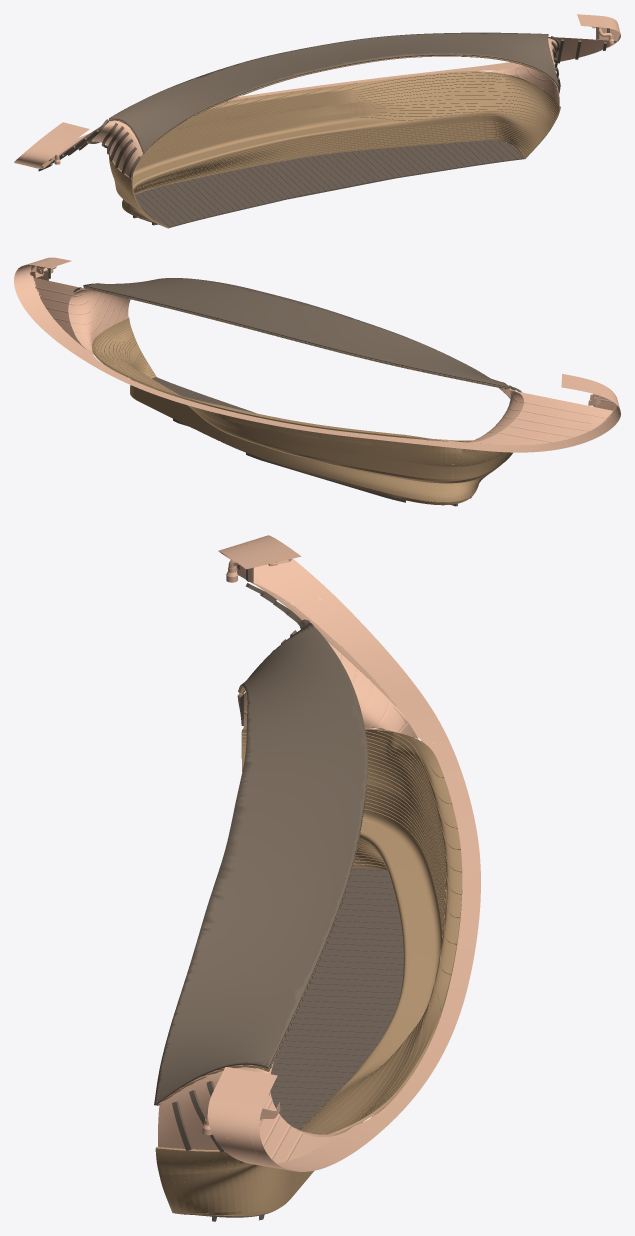
The model's file is balcony_B.glb.
3 renders of one model, top to bottom at view 1: azimuth 30°, elevation 25°; view 2: azimuth 150°, elevation 25°; view 3: azimuth 270°, elevation 25°, orthographic. The views are drawn at different scales.
Visible parts, largest first — view 1: bench_B, soffit_boards, deck, copper_parts, copper_sides, ceiling_shingles; view 2: bench_B, soffit_boards, copper_sides, copper_parts, deck, ceiling_shingles, edge_fittings; view 3: soffit_boards, bench_B, copper_parts, deck, copper_sides.
Boxes of the visible parts, x1=… form: bench_B: x1=108, y1=71, x2=560, y2=228; soffit_boards: x1=38, y1=27, x2=609, y2=178; deck: x1=131, y1=140, x2=523, y2=227; copper_parts: x1=14, y1=14, x2=620, y2=168; copper_sides: x1=37, y1=27, x2=620, y2=178; ceiling_shingles: x1=109, y1=55, x2=557, y2=152; bench_B: x1=92, y1=318, x2=512, y2=504; soffit_boards: x1=48, y1=268, x2=522, y2=443; copper_sides: x1=31, y1=265, x2=617, y2=445; copper_parts: x1=14, y1=257, x2=620, y2=452; deck: x1=150, y1=377, x2=471, y2=506; ceiling_shingles: x1=83, y1=286, x2=509, y2=395; edge_fittings: x1=86, y1=287, x2=505, y2=389; soffit_boards: x1=154, y1=565, x2=385, y2=1163; bench_B: x1=155, y1=728, x2=462, y2=1216; copper_parts: x1=202, y1=535, x2=480, y2=1171; deck: x1=195, y1=867, x2=403, y2=1221; copper_sides: x1=158, y1=564, x2=418, y2=1164.
Size of the model in its own units: 14.75 by 2.99 by 3.49.
